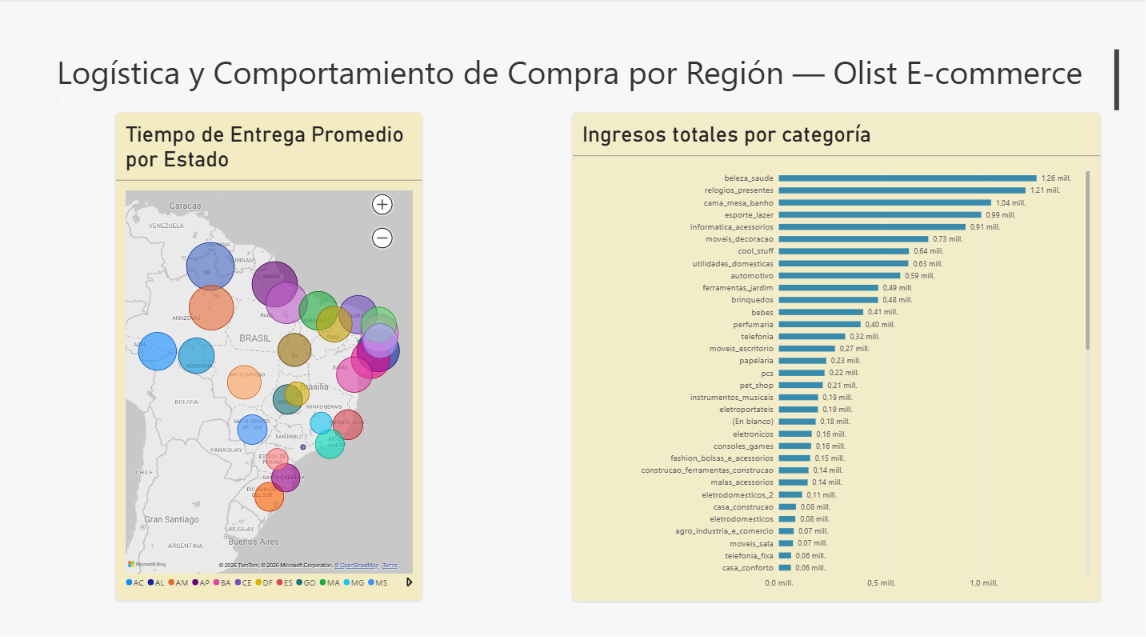

The page's visual inventory and layout, read from the dashboard file:
{"tool":"powerbi","page":{"name":"Página 2","canvas":[1920,1080],"ordinal":1},"visuals":[{"type":"map","title":"Tiempo de Entrega Promedio por Estado","fields":{"Series":["Consulta.customer_state"],"Size":["Avg(Consulta.promedio_dias_entrega)"],"X":["Consulta.lng_promedio"],"Y":["Consulta.lat_promedio"]},"box":[194.9,189.7,512.8,815.4],"z":0},{"type":"barChart","title":"Ingresos totales por categoría  ","fields":{"Category":["Consulta (2).categoria"],"Y":["Sum(Consulta (2).ingresos_totales)"]},"box":[959,189.7,882.1,816.4],"z":1},{"type":"textbox","box":[97.4,84.6,1774.4,105.1],"z":2}]}

Visuals, with their boxes in screenshot pixels (x1, y1, x2, y2), scaled from the page's 1920x1080 canvas onto the 1146x637 screenshot:
"Tiempo de Entrega Promedio por Estado" map: Rect(116, 112, 422, 593)
"Ingresos totales por categoría  " barChart: Rect(572, 112, 1099, 593)
textbox: Rect(58, 50, 1117, 112)
